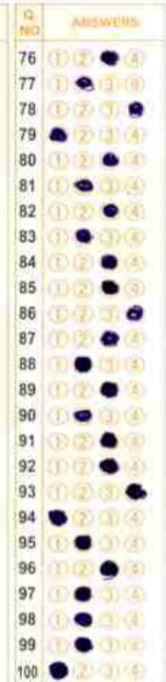filled circles: (49, 661, 68, 679), (100, 560, 118, 578), (48, 509, 67, 526), (126, 483, 146, 499), (99, 458, 118, 474), (100, 330, 119, 346), (100, 381, 118, 397), (100, 50, 119, 65), (74, 612, 93, 627), (74, 356, 91, 372), (49, 127, 67, 142), (74, 637, 92, 652), (126, 305, 143, 320), (100, 432, 117, 447), (74, 586, 91, 601), (74, 178, 93, 191), (76, 228, 92, 243), (101, 254, 117, 269), (128, 101, 143, 117), (101, 280, 118, 294), (76, 76, 93, 90), (74, 535, 91, 549), (102, 152, 118, 166), (102, 203, 118, 217), (74, 409, 91, 421)
